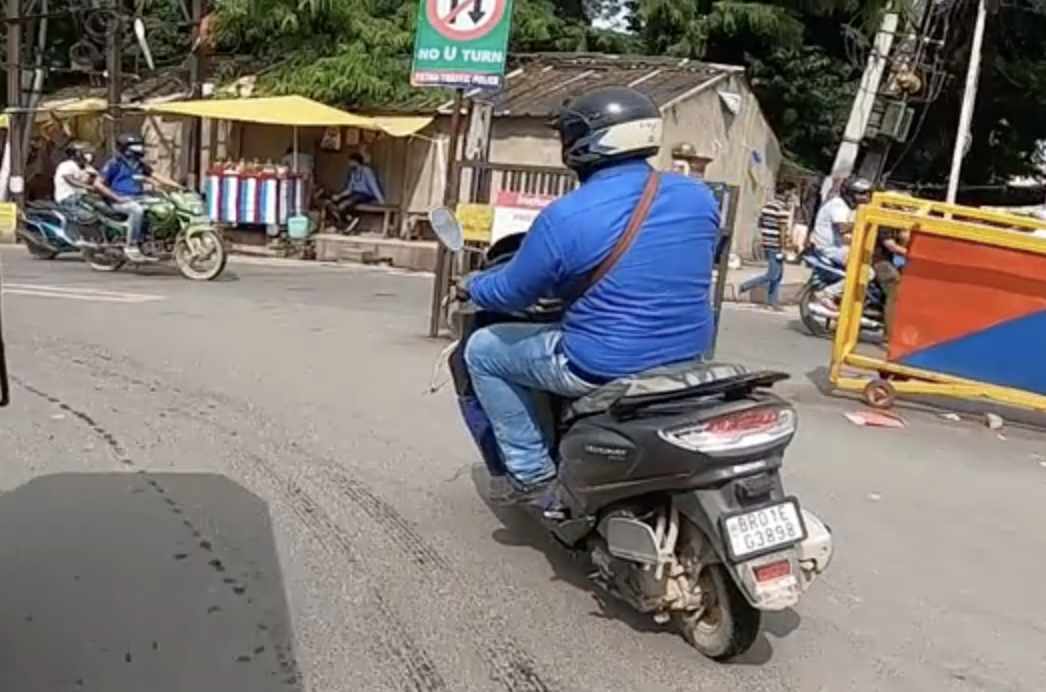motor: (427, 199, 836, 663)
number: (720, 495, 807, 557)
with helmet: (551, 80, 664, 172)
